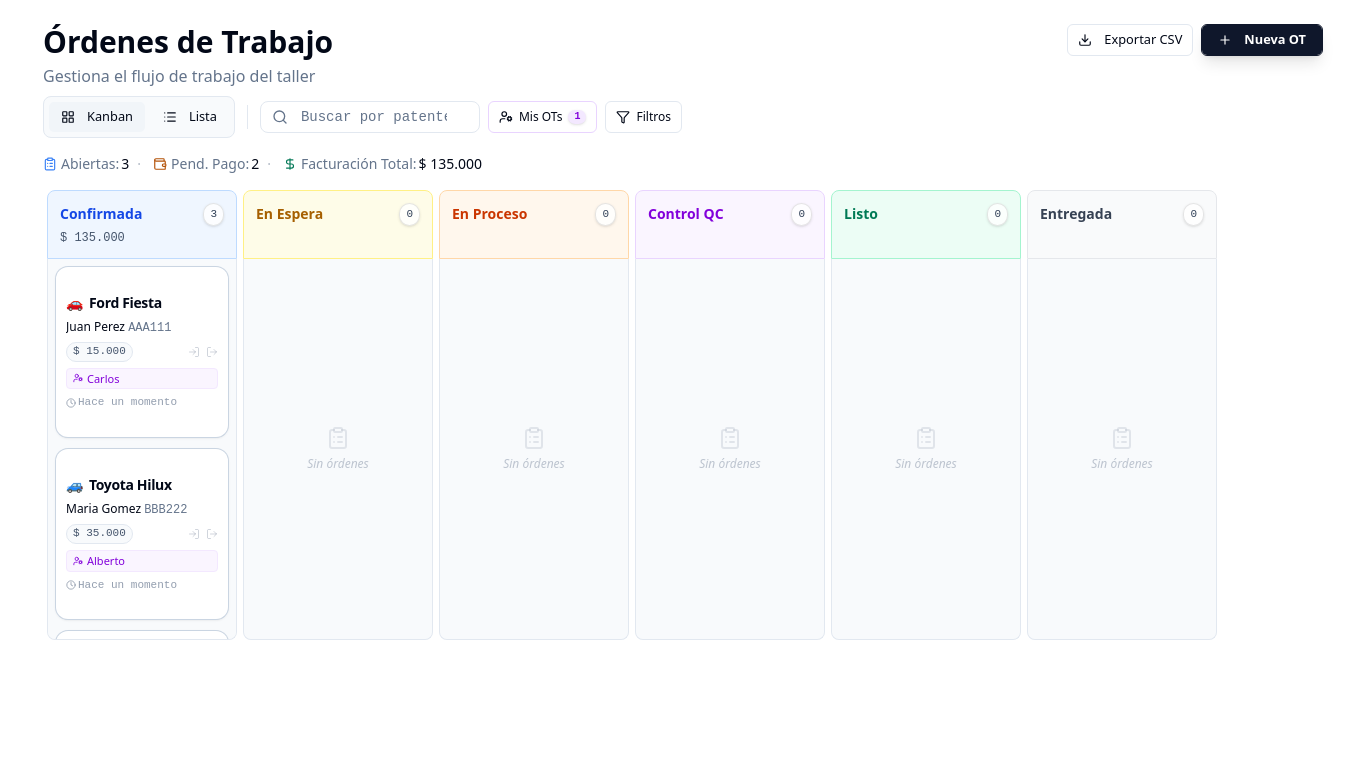
Test: WorkOrdersPage - "Mis OTs" Filter Option › filters the displayed work orders to only show those assigned to the current user when clicked
Expected: the text "AAA111" is shown, [128,320,171,334]
// Switch to List view to easily check all items
Click the button "Lista".
click(190, 117)  # box [150,101,230,133]
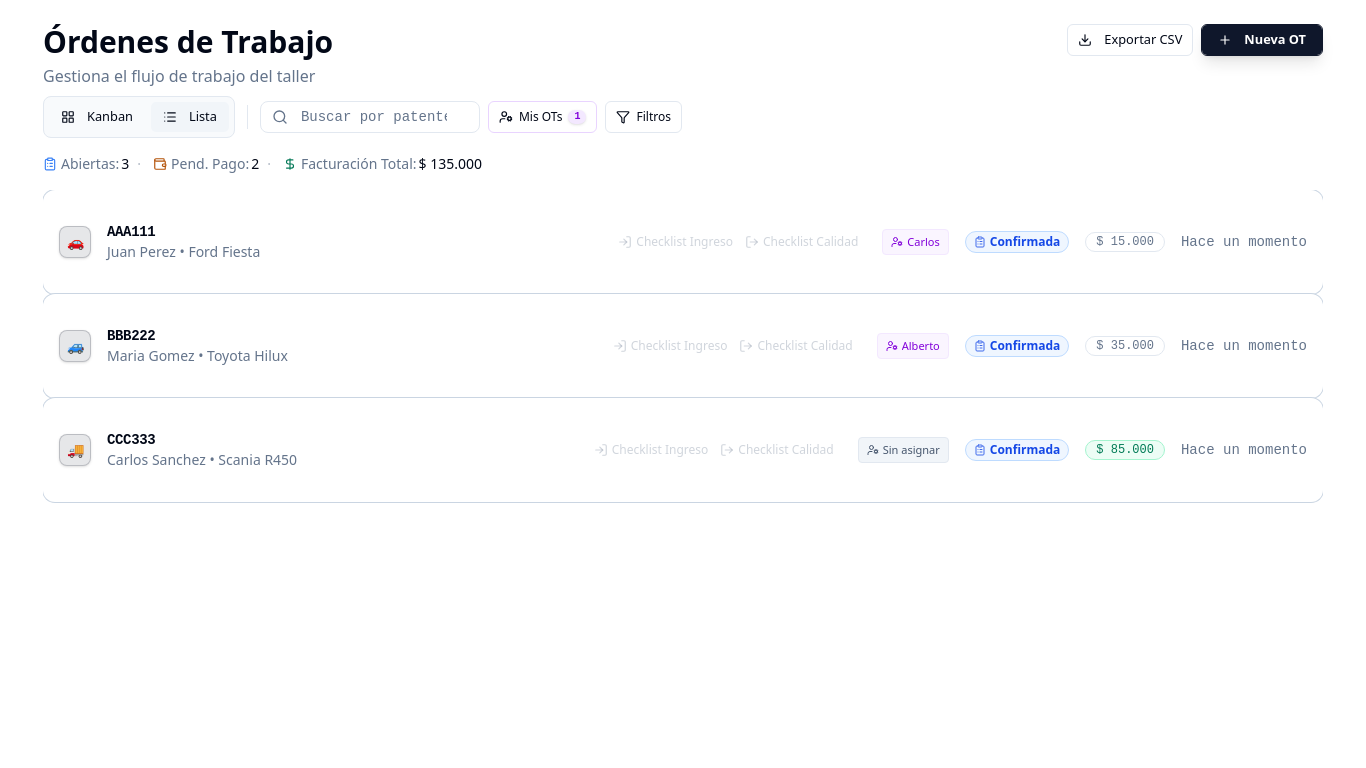
Expected: the text "AAA111" is shown, [107,224,155,240]
Expected: the text "CCC333" is shown, [107,432,155,448]
// Click "Mis OTs" button to filter
Click the button "Mis OTs 1".
click(543, 117)  # box [488,101,598,133]
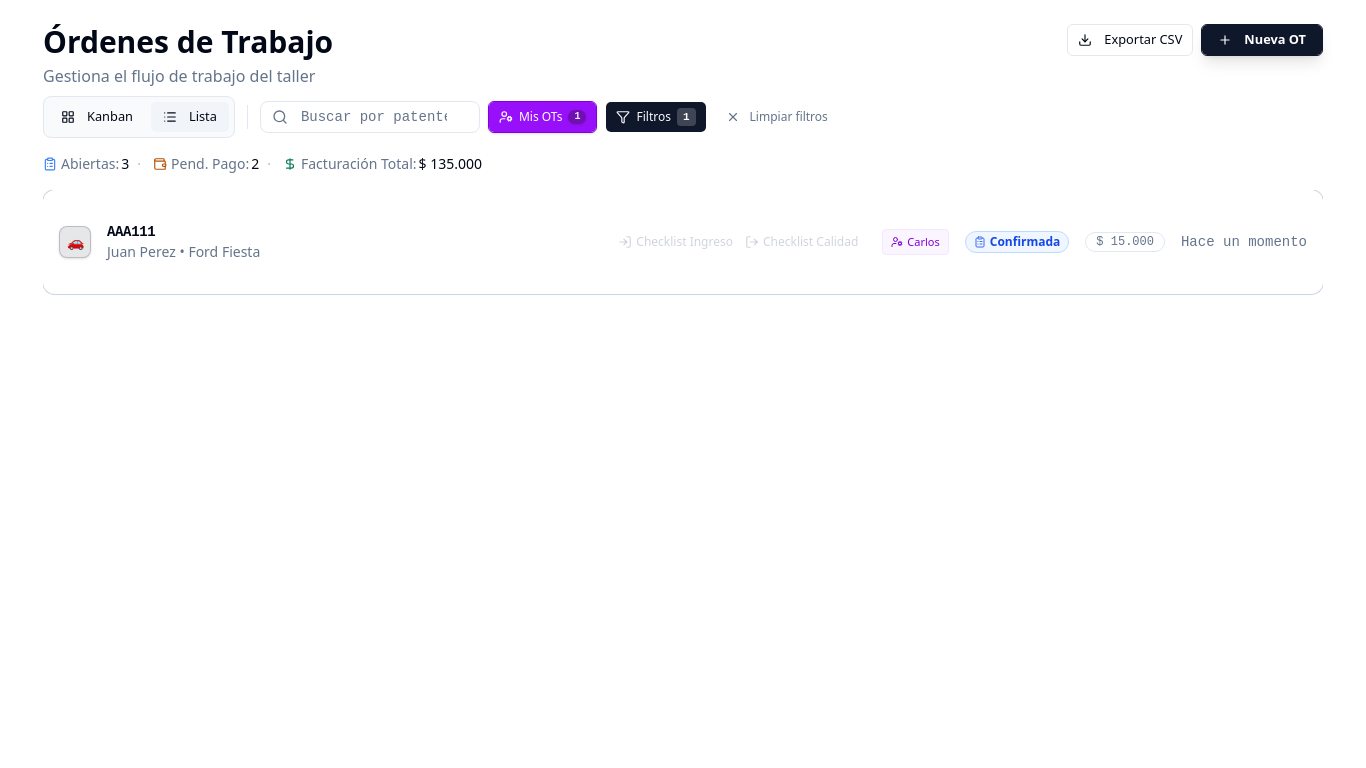
Expected: the text "AAA111" is shown, [107,224,155,240]
Expected: the link "BBB222" is gone
Expected: the link "CCC333" is gone
// Click "Mis OTs" button again to turn off the filter
Click the button "Mis OTs 1".
click(543, 117)  # box [488,101,598,133]
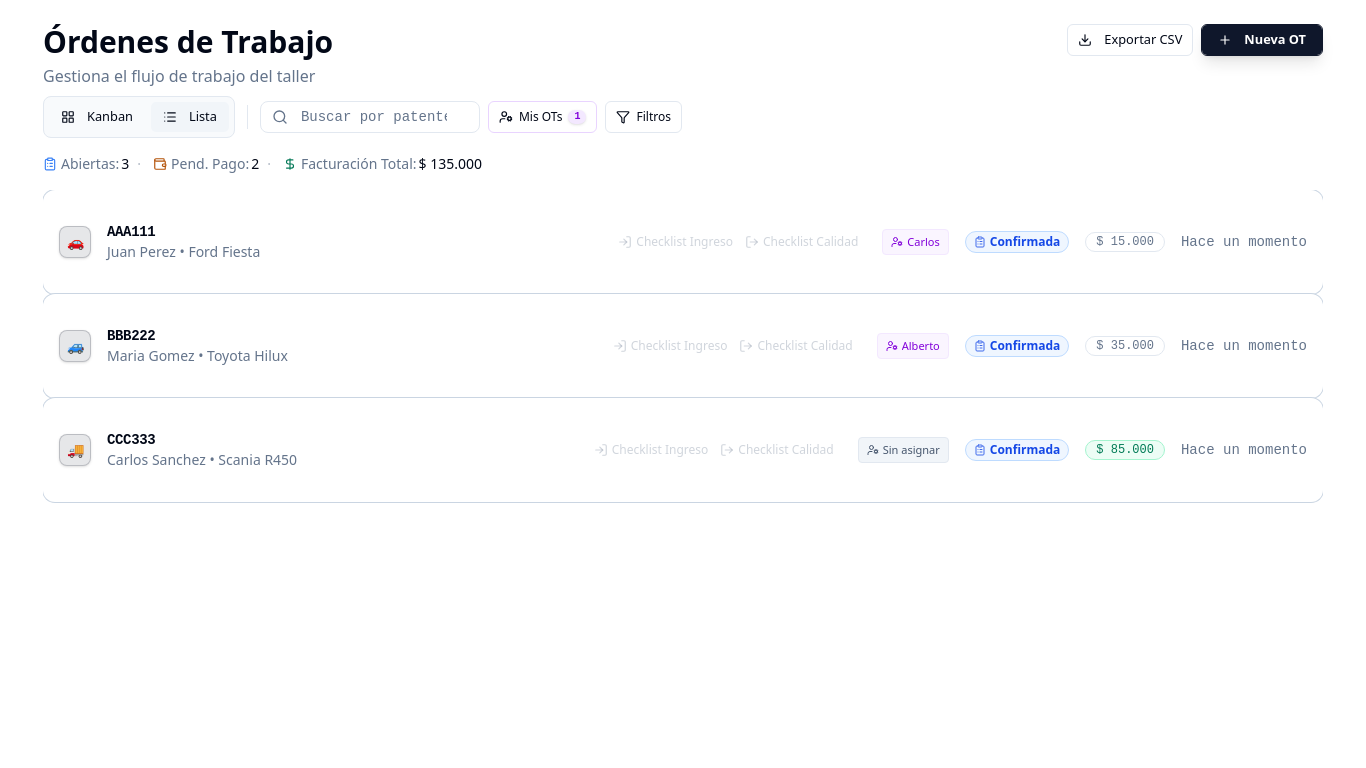
Expected: the text "AAA111" is shown, [107,224,155,240]
Expected: the text "BBB222" is shown, [107,328,155,344]
Expected: the text "CCC333" is shown, [107,432,155,448]
